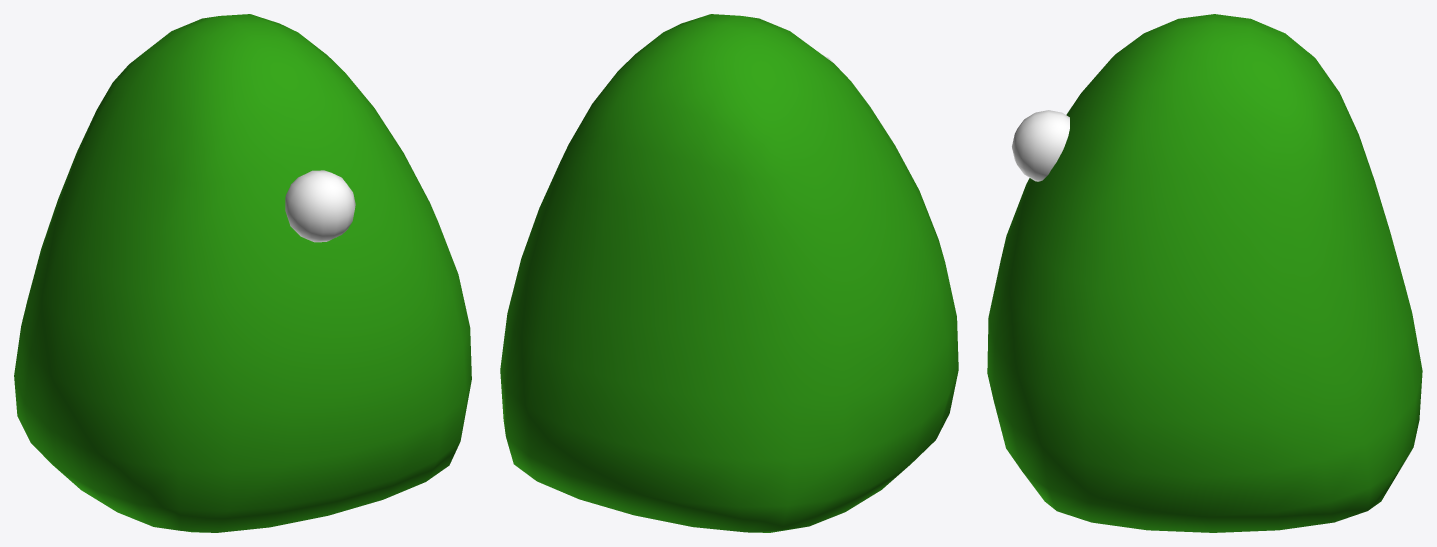
Rendered from Slime_00.fbx.
The picture shows the model from 3 angles, left to right: view 1: azimuth 30°, elevation 25°; view 2: azimuth 150°, elevation 25°; view 3: azimuth 270°, elevation 25°; orthographic projection.
Visible parts, largest first — view 1: Slime_00; view 2: Slime_00; view 3: Slime_00.
Boxes of the visible parts, left/top/right/bottom form: Slime_00: left=14, top=14, right=471, bottom=532; Slime_00: left=500, top=14, right=958, bottom=532; Slime_00: left=987, top=14, right=1422, bottom=532.
Size of the model in its own units: 0.9156 by 1.01 by 0.8842.
